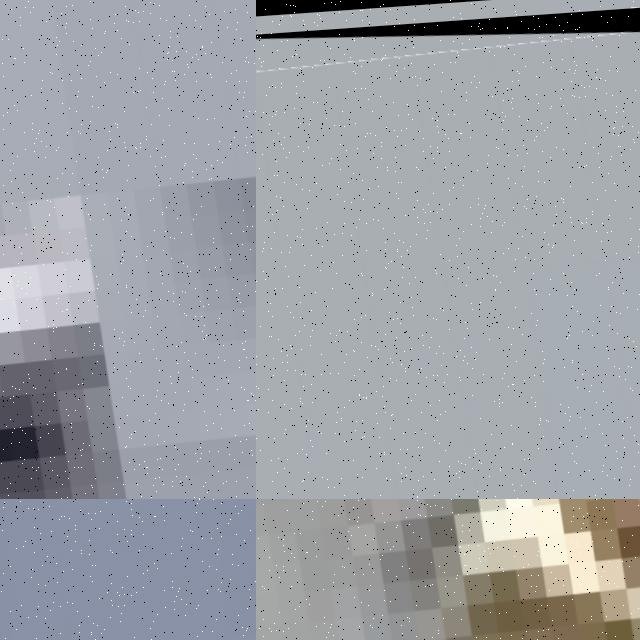0: (256, 0, 640, 499), (0, 0, 256, 499)
drone: (256, 499, 640, 640)
